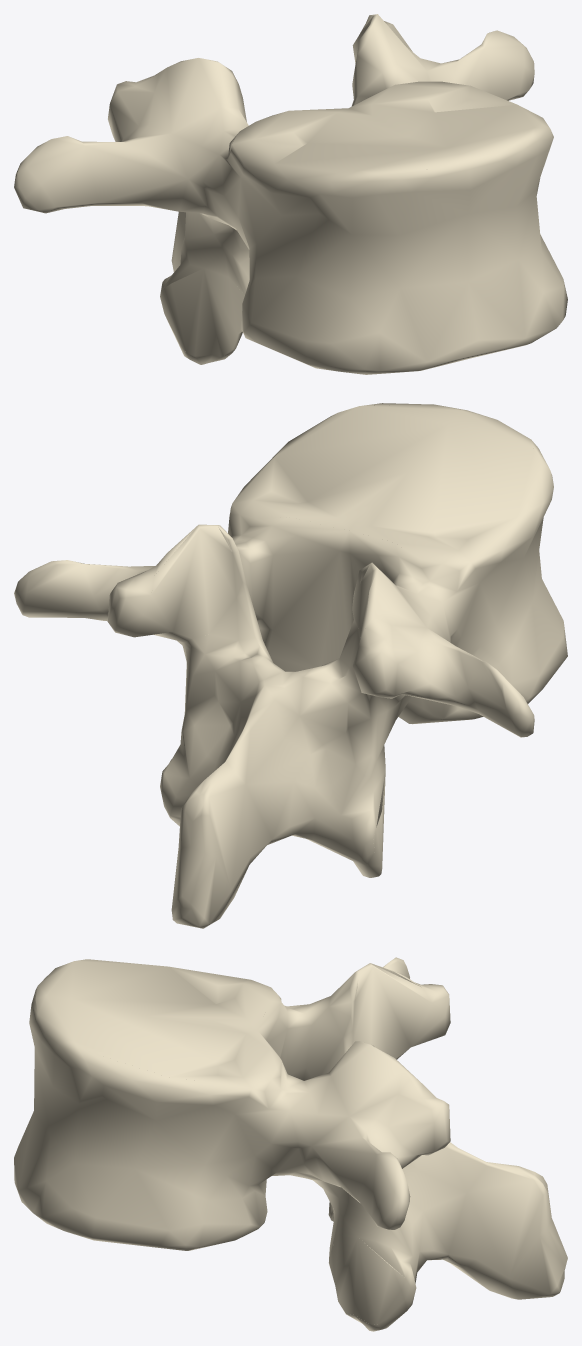
File: esqueleto-vertebra-l2.glb
3 views of the same model, one above another, from view 1: azimuth 30°, elevation 25°; view 2: azimuth 150°, elevation 25°; view 3: azimuth 270°, elevation 25° (orthographic). The views are drawn at different scales.
Visible parts, largest first — view 1: Vertebra L2; view 2: Vertebra L2; view 3: Vertebra L2.
Part boxes in pixels (x1,y1,x2,y2): Vertebra L2: (14,14,567,374); Vertebra L2: (14,403,567,928); Vertebra L2: (14,957,567,1331).
Bounding box in the file's own units: 0.0838 × 0.0497 × 0.0831.
